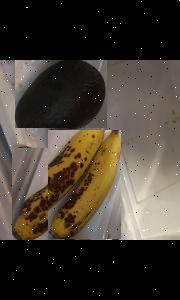Aguacate: (14, 60, 106, 128)
Plátano: (11, 148, 105, 240), (47, 130, 120, 239)
